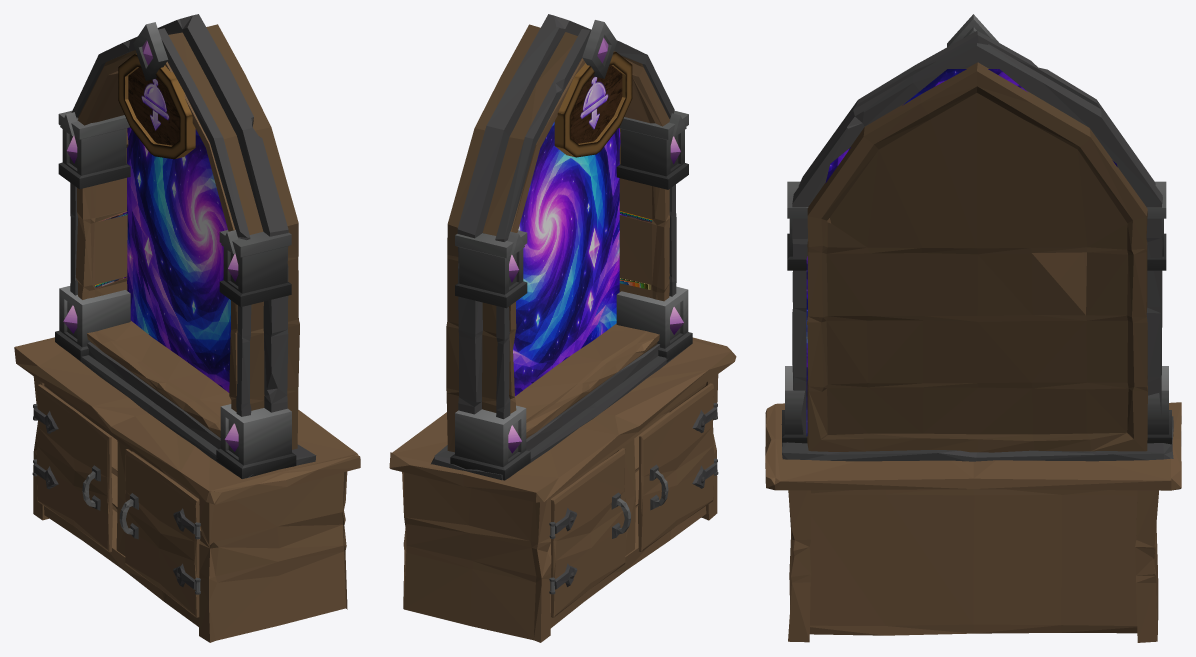
File: zechuldae 1.fbx
3 renders of one model, left to right at view 1: azimuth 30°, elevation 25°; view 2: azimuth 150°, elevation 25°; view 3: azimuth 270°, elevation 25°, orthographic. The views are drawn at different scales.
Visible parts, largest first — view 1: AWS_Shelve_007; view 2: AWS_Shelve_007; view 3: AWS_Shelve_007.
Part boxes in pixels (x1,y1,x2,y2): AWS_Shelve_007: (14,14,360,642); AWS_Shelve_007: (389,14,736,642); AWS_Shelve_007: (765,14,1181,642).
Bounding box in the file's own units: 85.22 × 181 × 273.
Materials: 2 (2 with a texture image).
